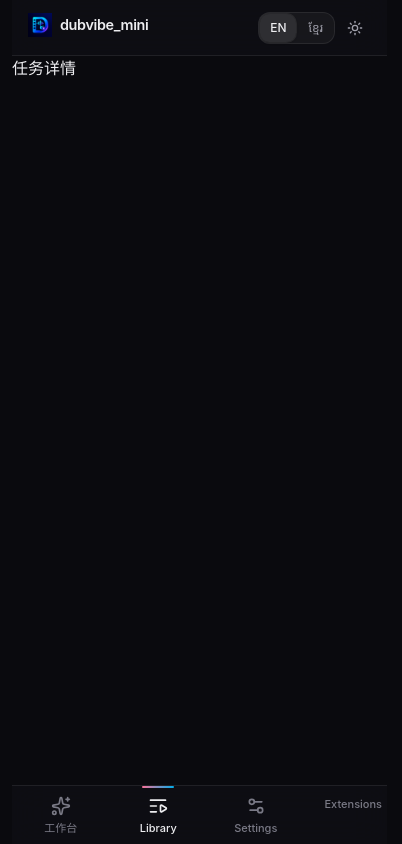
Test: keeps plugin navigation and task-detail selection consistent in both layouts
This screenshot has width=402, height=844.
Step 1. Click the link "Settings" → point(256, 815), box [234,796,277,834]
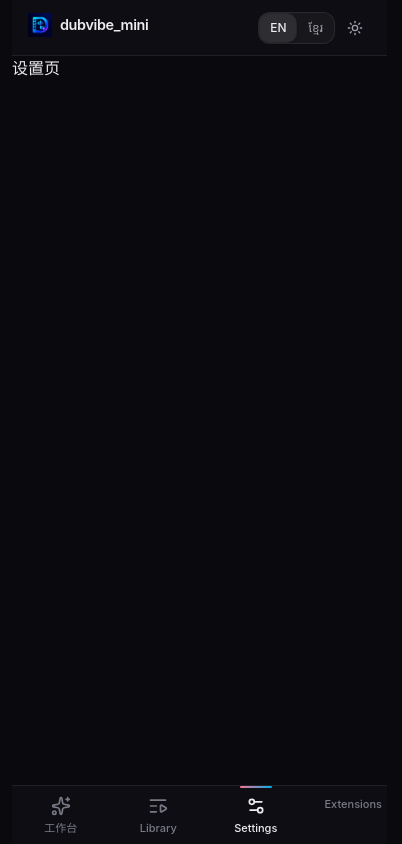
Check: the heading "设置页" is shown, box [12,58,60,78]
Step 2. Click the link "Extensions" → point(353, 804), box [324,796,382,810]
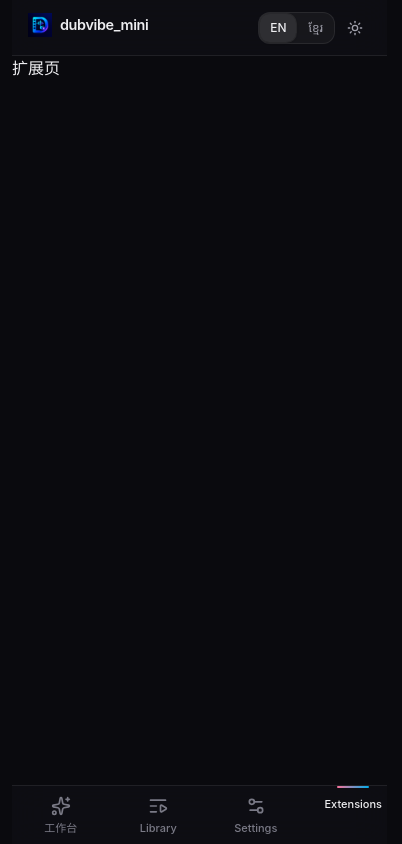
Check: the heading "扩展页" is shown, box [12,58,60,78]
